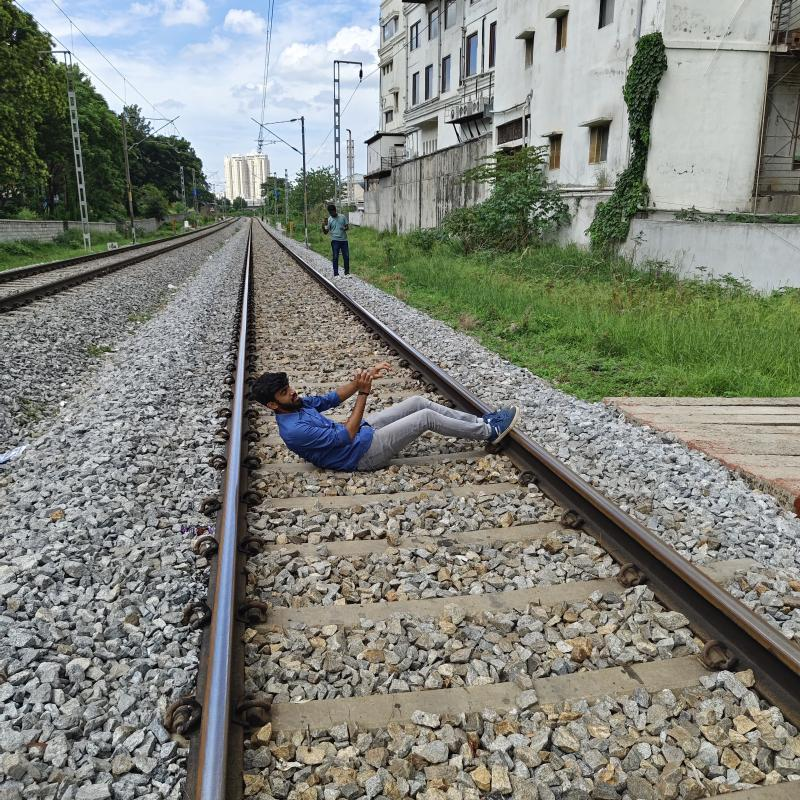sleeping: (237, 365, 534, 472)
